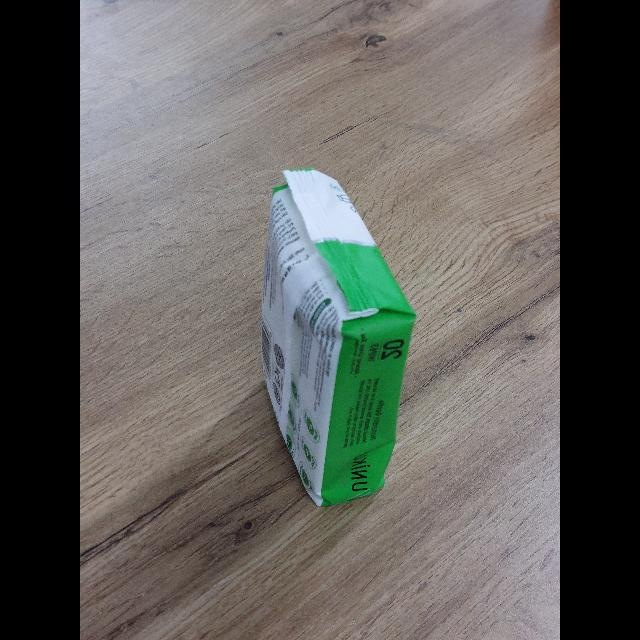khan_giay: (262, 169, 415, 505)
